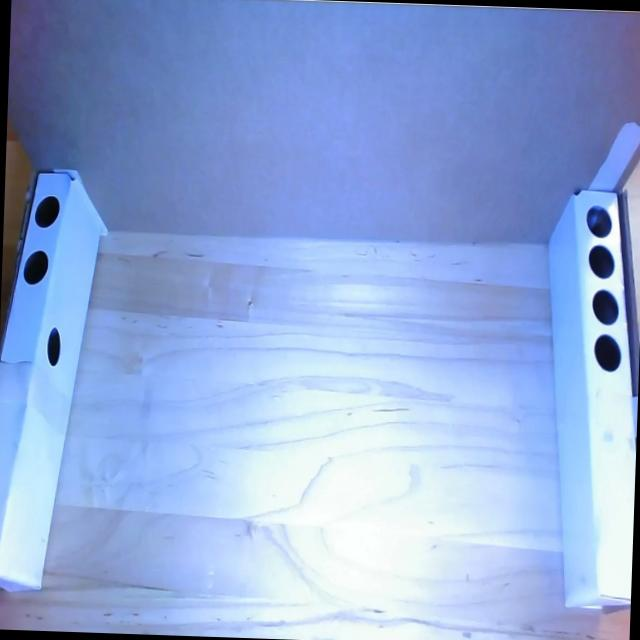Hole: (591, 332, 623, 374), (20, 246, 50, 290), (590, 286, 622, 326), (32, 192, 62, 231), (586, 243, 617, 280), (584, 202, 614, 240), (44, 325, 62, 369)
